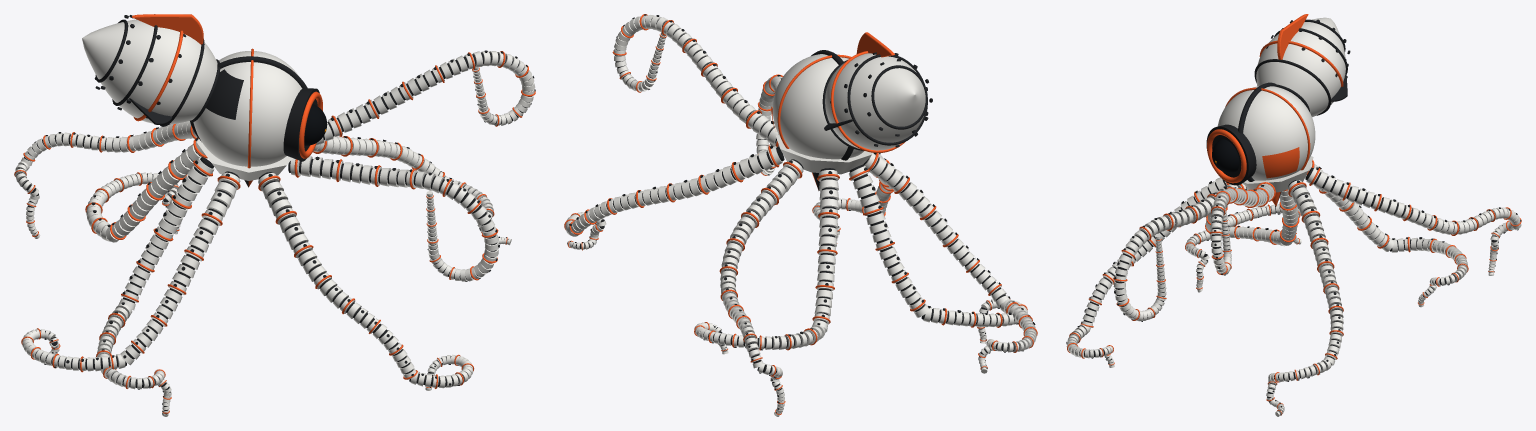
The model's file is aoi-octo8.glb.
3 renders of one model, left to right at view 1: azimuth 30°, elevation 25°; view 2: azimuth 150°, elevation 25°; view 3: azimuth 270°, elevation 25°, orthographic. The views are drawn at different scales.
Size of the model in its own units: 0.55 by 0.3749 by 0.5296.
1 material, 1 textured.
